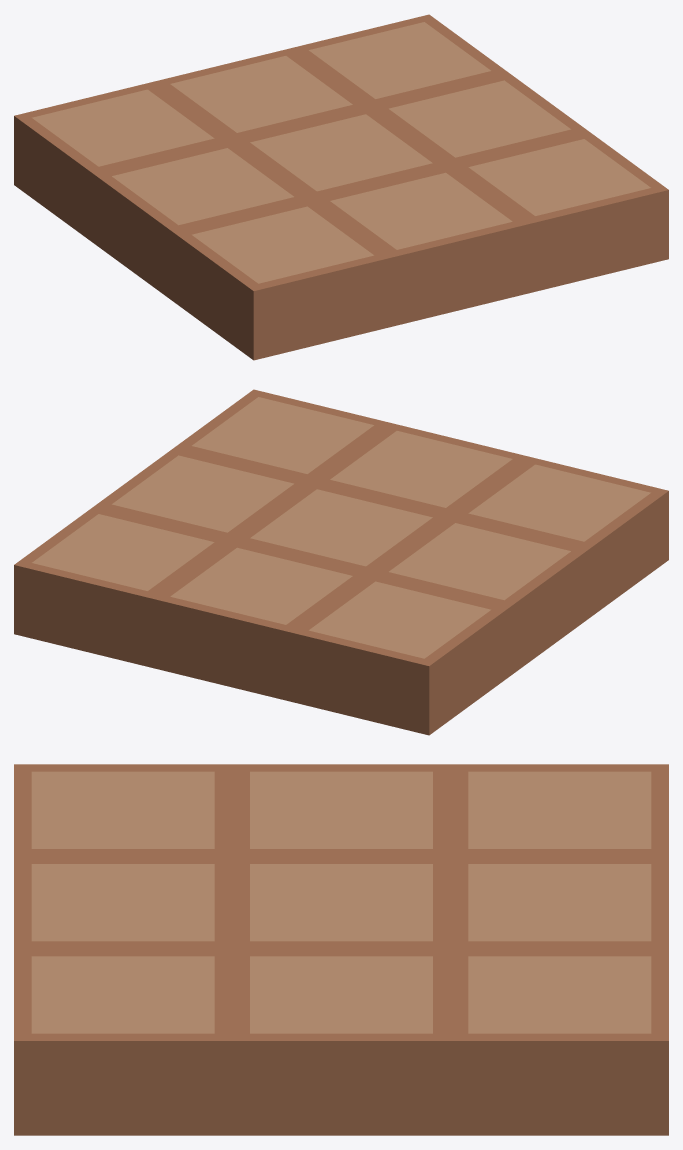
Rendered from Floor_hallway.fbx.
3 renders of one model, top to bottom at view 1: azimuth 30°, elevation 25°; view 2: azimuth 150°, elevation 25°; view 3: azimuth 270°, elevation 25°, orthographic. The views are drawn at different scales.
Visible parts, largest first — view 1: Floor_hallway; view 2: Floor_hallway; view 3: Floor_hallway.
Boxes of the visible parts, <box> form: Floor_hallway: <box>14,14,668,360</box>; Floor_hallway: <box>14,389,668,735</box>; Floor_hallway: <box>14,764,668,1135</box>.
Size of the model in its own units: 200 by 31.89 by 200.
